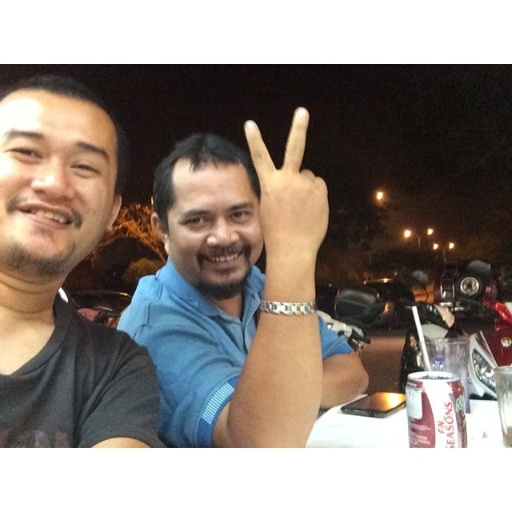hand: (233, 98, 336, 315)
